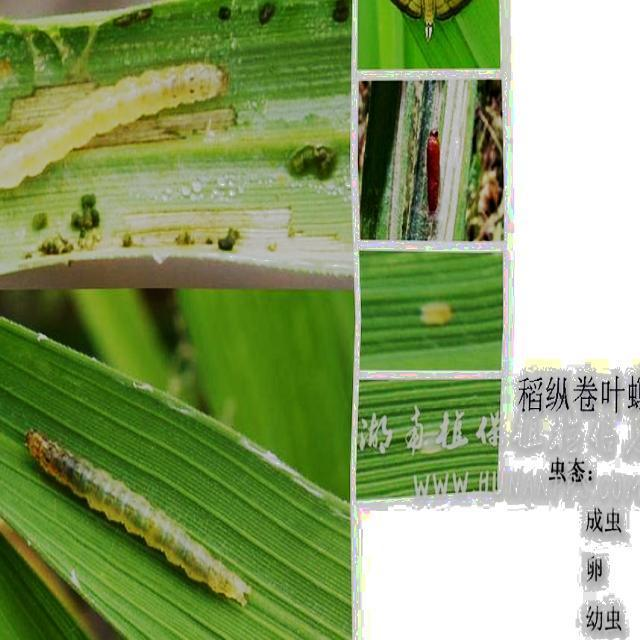leaf-folder: (11, 404, 271, 624), (0, 47, 238, 204), (416, 272, 462, 350), (420, 108, 450, 223)
